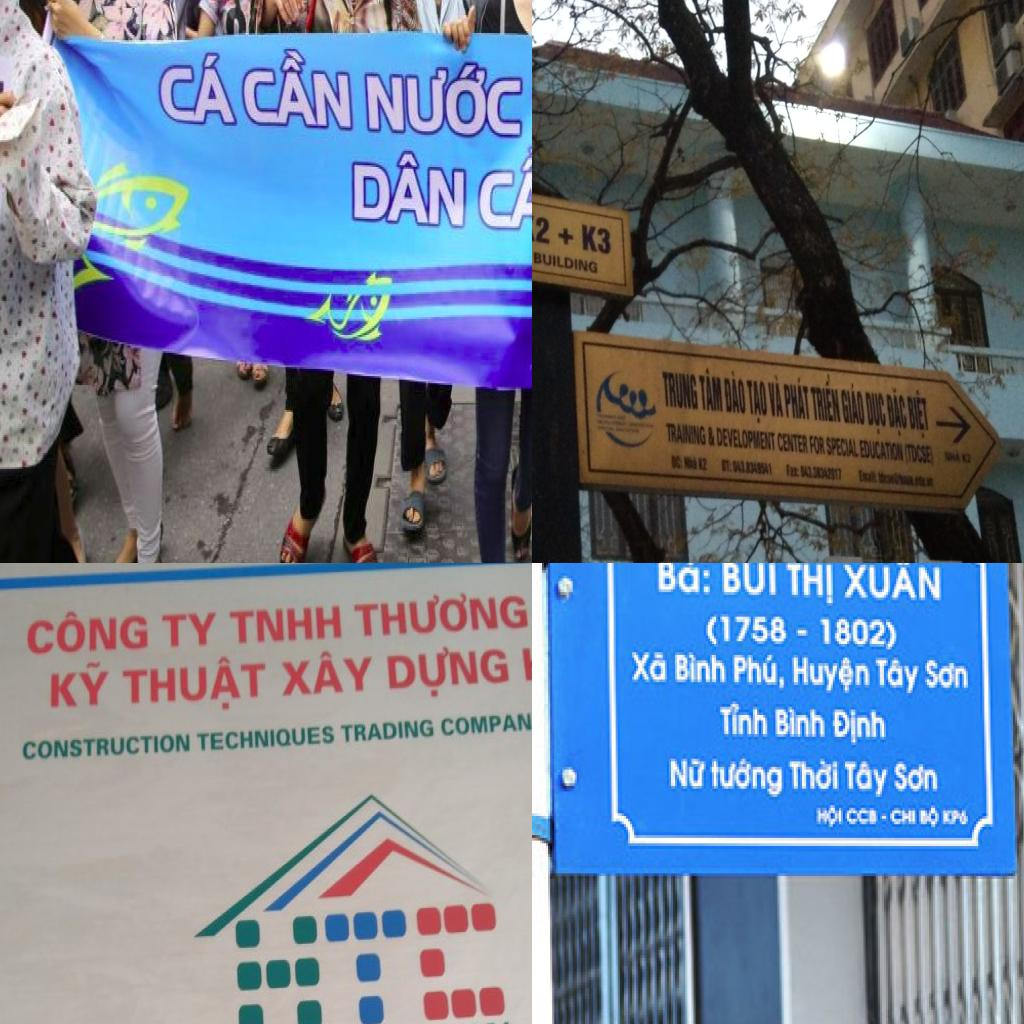text: (365, 53, 523, 140), (240, 46, 354, 133), (350, 149, 466, 231), (355, 589, 531, 640), (125, 655, 270, 713), (386, 641, 515, 703), (158, 51, 240, 128), (27, 610, 150, 658), (22, 732, 192, 764), (477, 142, 532, 236), (280, 648, 378, 697), (230, 604, 343, 644), (197, 724, 335, 755), (838, 563, 943, 602), (790, 655, 874, 698), (710, 753, 786, 800), (708, 611, 790, 652), (816, 614, 902, 652), (48, 658, 110, 710), (831, 704, 890, 751), (439, 709, 532, 738), (783, 563, 839, 611), (673, 647, 732, 690), (341, 717, 435, 743), (732, 652, 788, 693), (841, 756, 892, 800), (161, 610, 217, 650), (716, 702, 771, 742), (720, 563, 779, 600), (773, 704, 829, 742), (874, 655, 923, 698), (786, 756, 841, 794), (656, 563, 714, 597), (892, 761, 944, 797), (665, 753, 710, 794), (630, 644, 671, 688), (533, 250, 600, 275), (810, 371, 842, 422), (662, 368, 700, 410), (925, 658, 970, 693), (716, 425, 776, 451), (906, 388, 931, 440), (697, 367, 724, 413), (784, 377, 812, 420), (884, 388, 908, 438), (840, 381, 866, 426), (859, 436, 904, 462), (664, 422, 707, 447), (580, 223, 612, 256), (722, 370, 746, 414), (814, 802, 845, 835), (866, 389, 888, 435), (746, 379, 768, 424), (845, 805, 882, 830), (766, 372, 784, 418), (888, 805, 921, 830), (825, 436, 859, 458), (733, 458, 774, 476), (532, 210, 552, 246), (800, 464, 842, 481), (777, 430, 809, 452), (904, 442, 933, 464), (558, 223, 574, 248), (809, 433, 826, 455), (858, 468, 878, 484), (706, 424, 716, 446), (944, 450, 962, 462), (684, 454, 698, 469), (786, 462, 800, 477), (671, 454, 683, 470), (697, 456, 708, 470), (721, 458, 732, 472), (962, 451, 972, 463)
